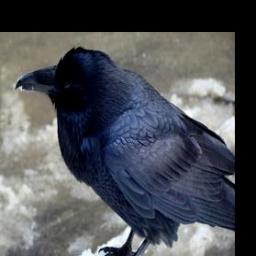Crow: (15, 46, 233, 256)
